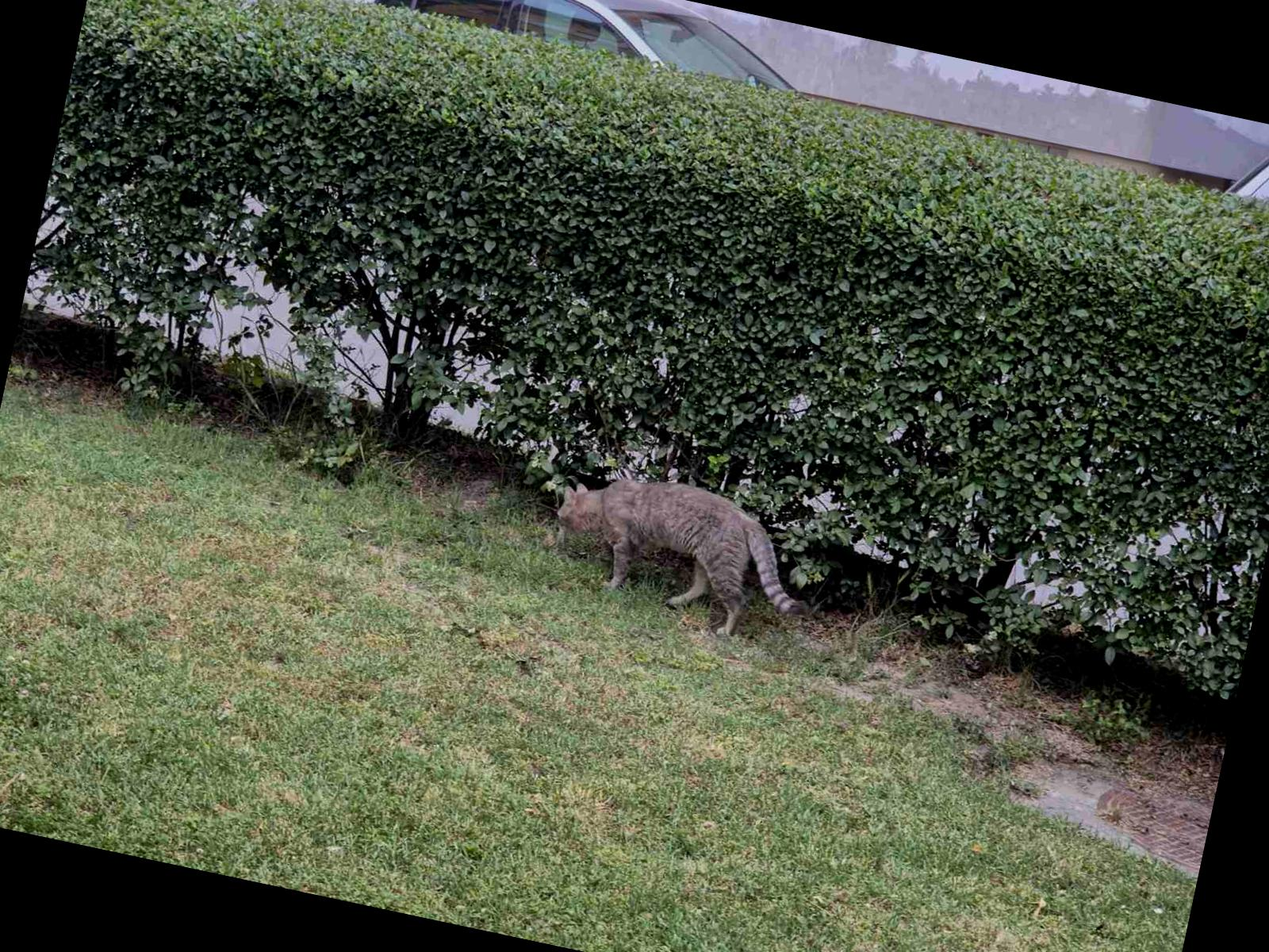macka: (538, 457, 822, 653)
